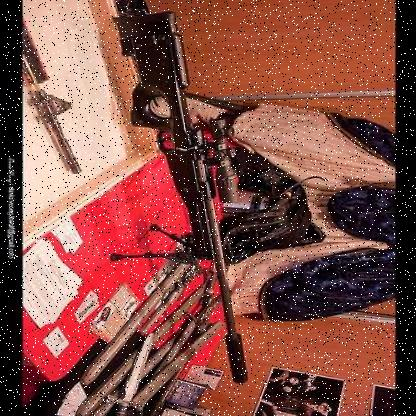rifle: (96, 10, 272, 385)
